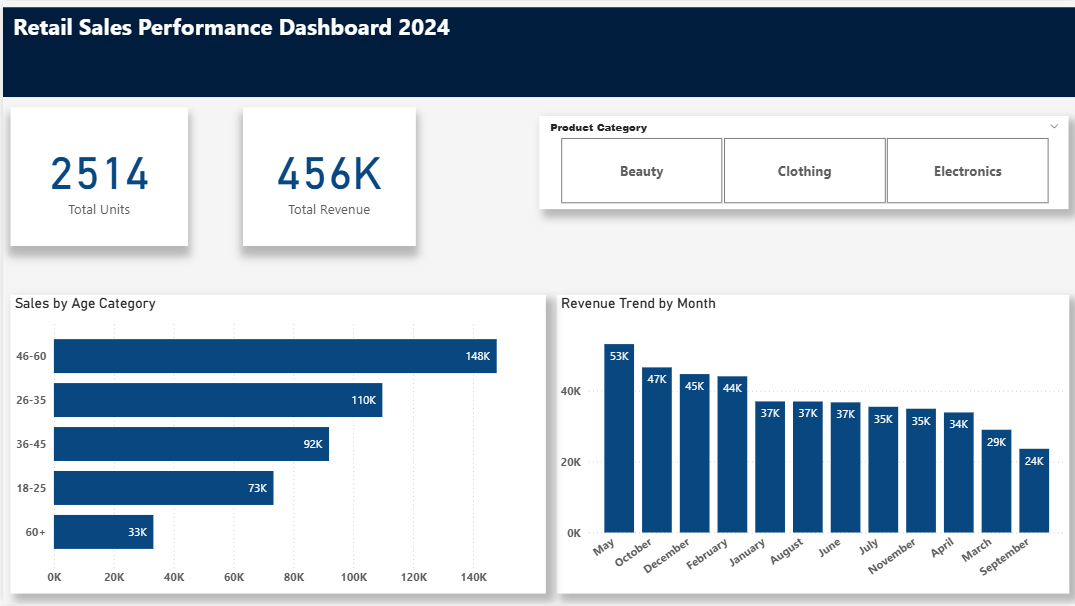

What the dashboard file says about the page in this screenshot:
{"tool":"powerbi","page":{"name":"Page 1","canvas":[1280,720],"ordinal":0},"visuals":[{"type":"textbox","box":[0,7.2,1280,107.4],"z":0},{"type":"card","fields":{"Values":["Sum(Sheet1.Revenue)"]},"box":[287.1,126.7,206.3,165.3],"z":1000},{"type":"card","fields":{"Values":["Sum(Sheet1.Quantity)"]},"box":[9.7,126.7,212.3,165.3],"z":2000},{"type":"clusteredColumnChart","title":"Revenue Trend by Month","fields":{"Category":["Sheet1.Month_Name"],"Y":["Sum(Sheet1.Revenue)"]},"box":[661.1,351.1,611.7,357.1],"z":3000},{"type":"clusteredBarChart","title":"Sales by Age Category","fields":{"Category":["Sheet1.Age_Group"],"Y":["Sum(Sheet1.Revenue)"]},"box":[9.7,351.1,639.4,357.1],"z":4000},{"type":"slicer","fields":{"Values":["Sheet1.Product Category"]},"box":[640.6,137.5,632.2,111],"z":5000}]}

Visuals, with their boxes in screenshot pixels (x1, y1, x2, y2), scaled from the page's 1280x720 canvas onto the 1075x606 screenshot:
textbox: box(0, 6, 1074, 96)
card - Sum(Sheet1.Revenue): box(241, 107, 414, 246)
card - Sum(Sheet1.Quantity): box(8, 107, 186, 246)
"Revenue Trend by Month" clusteredColumnChart: box(555, 296, 1069, 596)
"Sales by Age Category" clusteredBarChart: box(8, 296, 545, 596)
slicer - Sheet1.Product Category: box(538, 116, 1069, 209)
